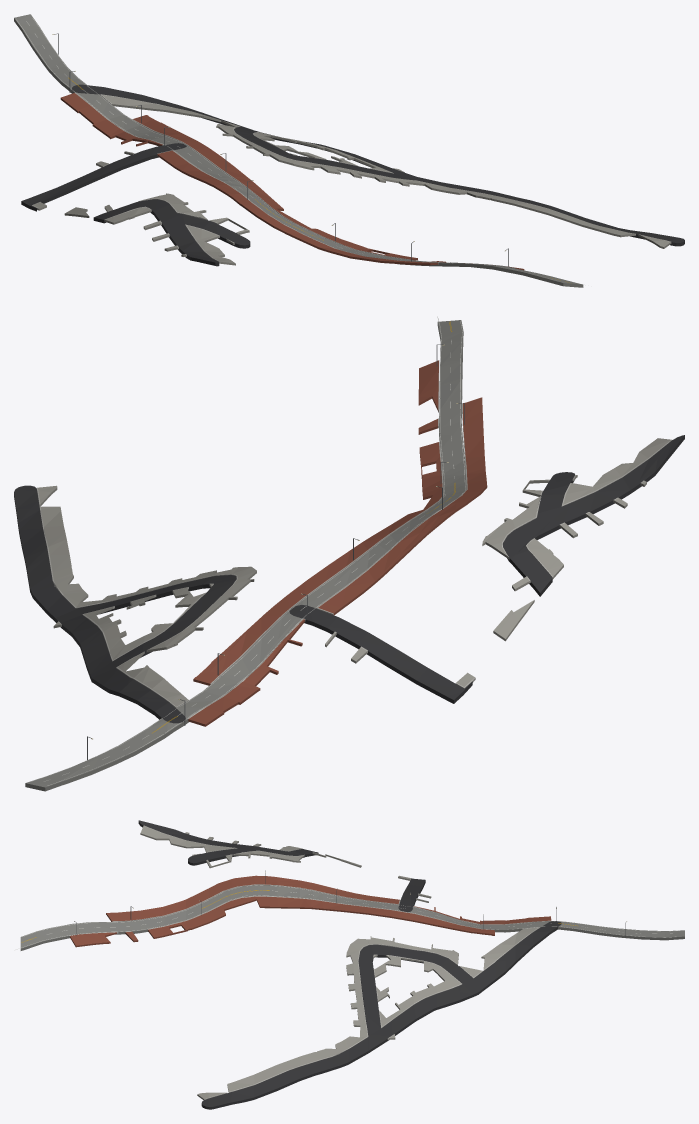
3 renders of one model, top to bottom at view 1: azimuth 30°, elevation 25°; view 2: azimuth 150°, elevation 25°; view 3: azimuth 270°, elevation 25°, orthographic. The views are drawn at different scales.
Bounding box in the file's own units: 193 × 51.26 × 294.
